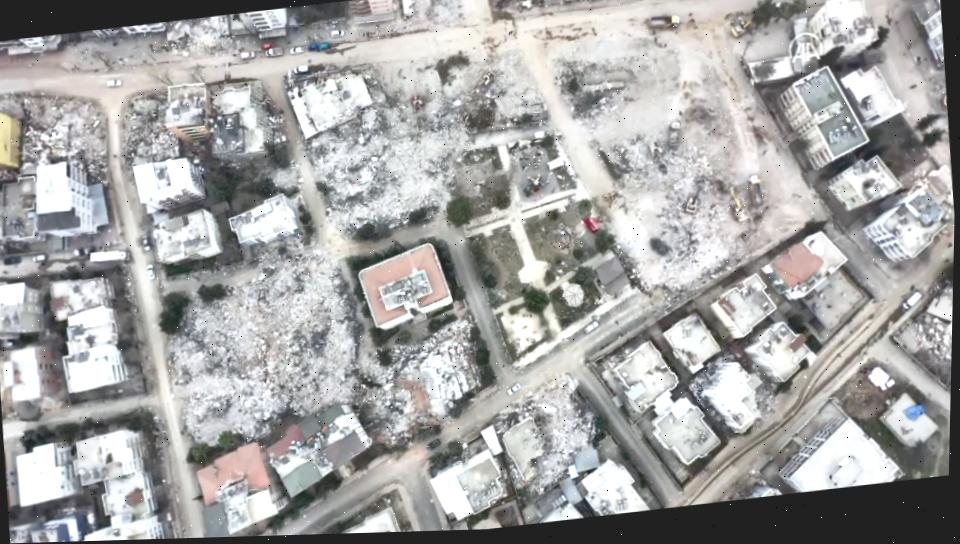kapali: (312, 229, 423, 456), (627, 227, 771, 326)
